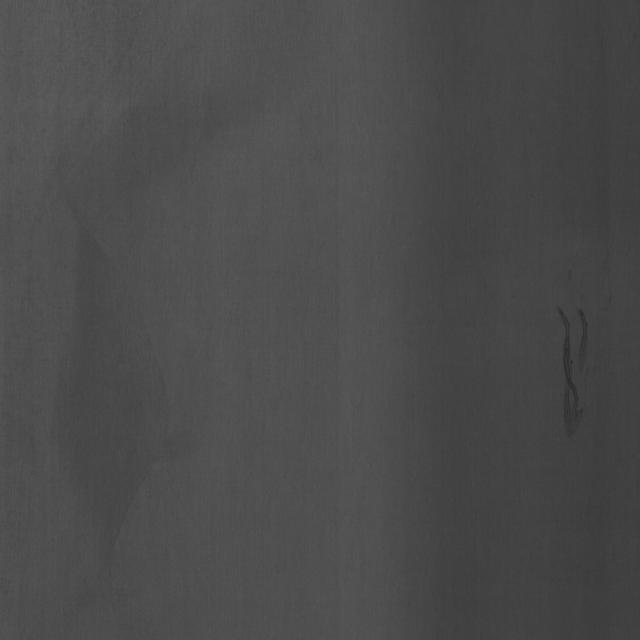water_spot: (552, 281, 600, 458)
